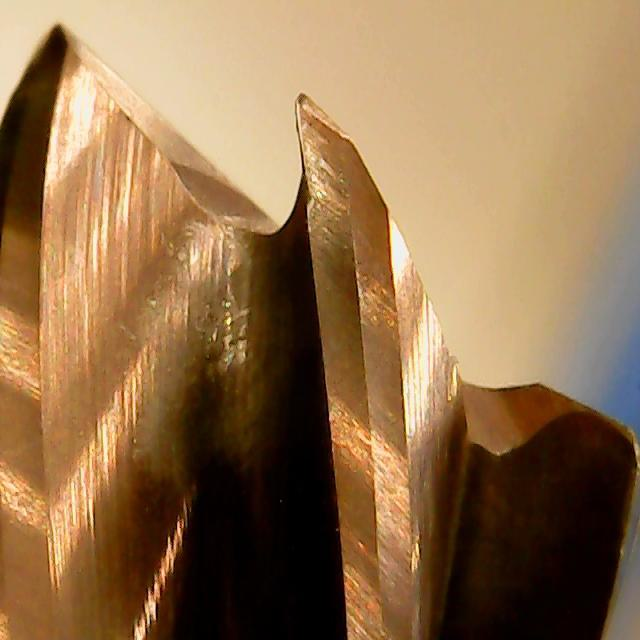Tool-wear-class-1: (270, 87, 408, 397)
